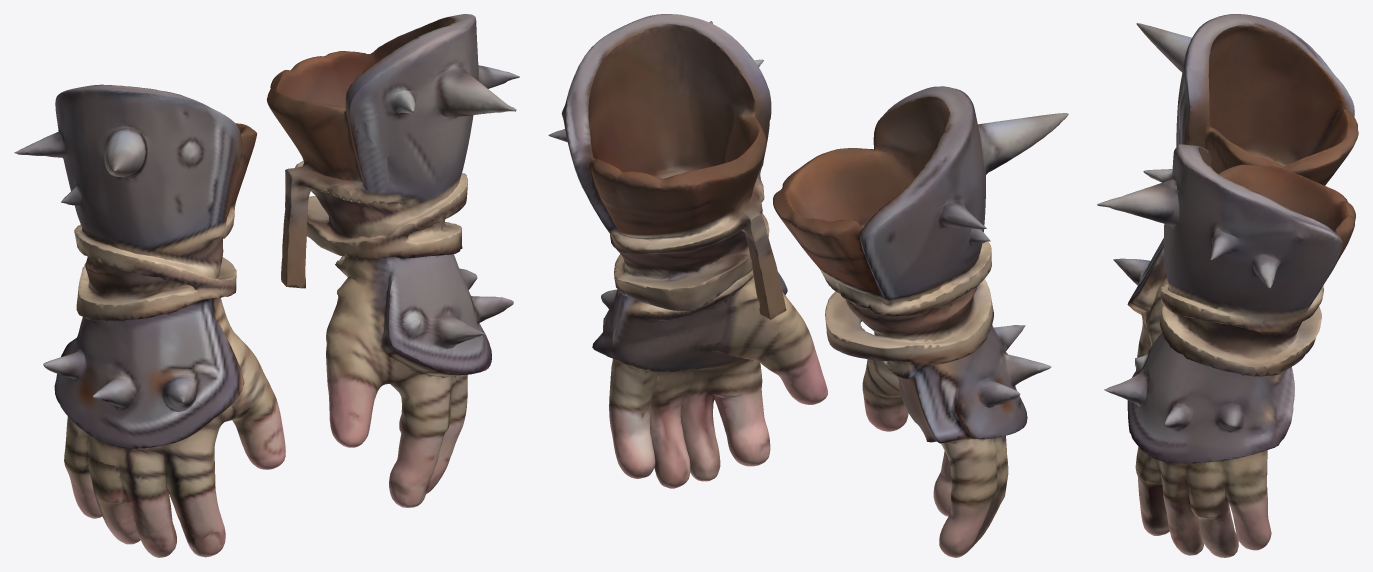
Rendered from luva-barbaro.glb.
3 views of the same model, side by side, from view 1: azimuth 30°, elevation 25°; view 2: azimuth 150°, elevation 25°; view 3: azimuth 270°, elevation 25° (orthographic). The views are drawn at different scales.
Visible parts, largest first — view 1: tripo_node_f229ffa2-e08e-421b-a2ef-4f7bcf6025ce.001; view 2: tripo_node_f229ffa2-e08e-421b-a2ef-4f7bcf6025ce.001; view 3: tripo_node_f229ffa2-e08e-421b-a2ef-4f7bcf6025ce.001.
Part boxes in pixels (box(x1,y1,x2,y2)): tripo_node_f229ffa2-e08e-421b-a2ef-4f7bcf6025ce.001: box(14, 14, 519, 557); tripo_node_f229ffa2-e08e-421b-a2ef-4f7bcf6025ce.001: box(548, 14, 1068, 557); tripo_node_f229ffa2-e08e-421b-a2ef-4f7bcf6025ce.001: box(1097, 14, 1358, 557).
Bounding box in the file's own units: 0.1763 × 0.1694 × 0.0969.
Materials: 1 (1 with a texture image).
